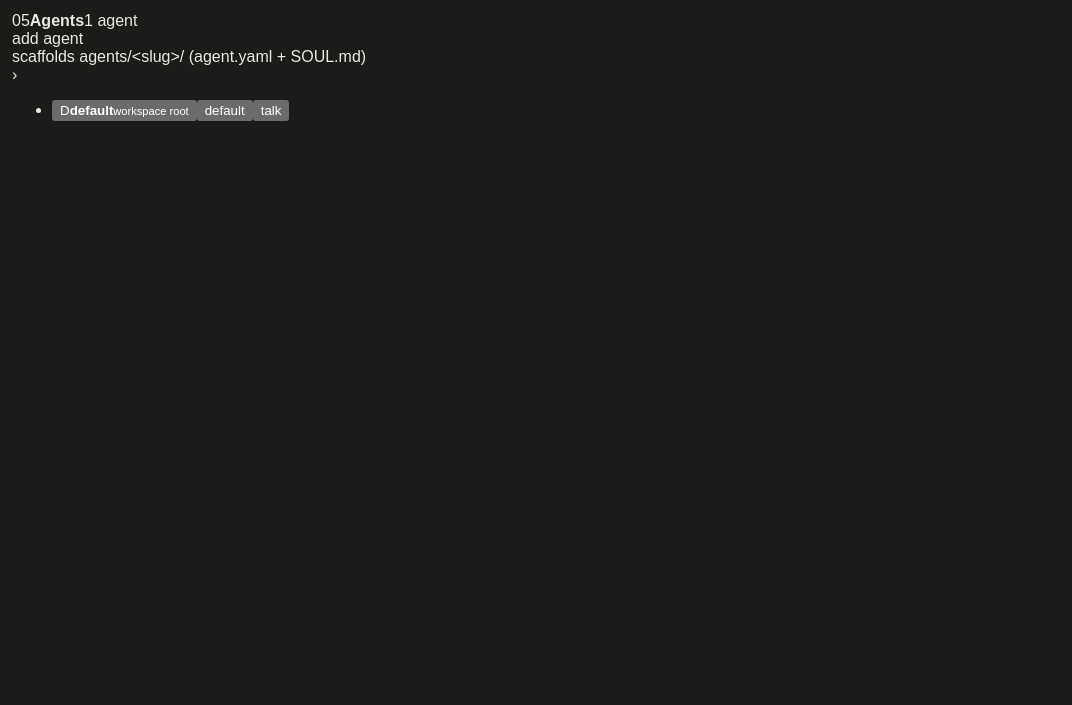
Test case: AgentsTab · the two verbs › a card TAP opens that agent's editor — the very row the list has always opened
expect the field labelled "Max output tokens" is not shown: met
Click the text "workspace root": (151,111) [113,105,189,117]
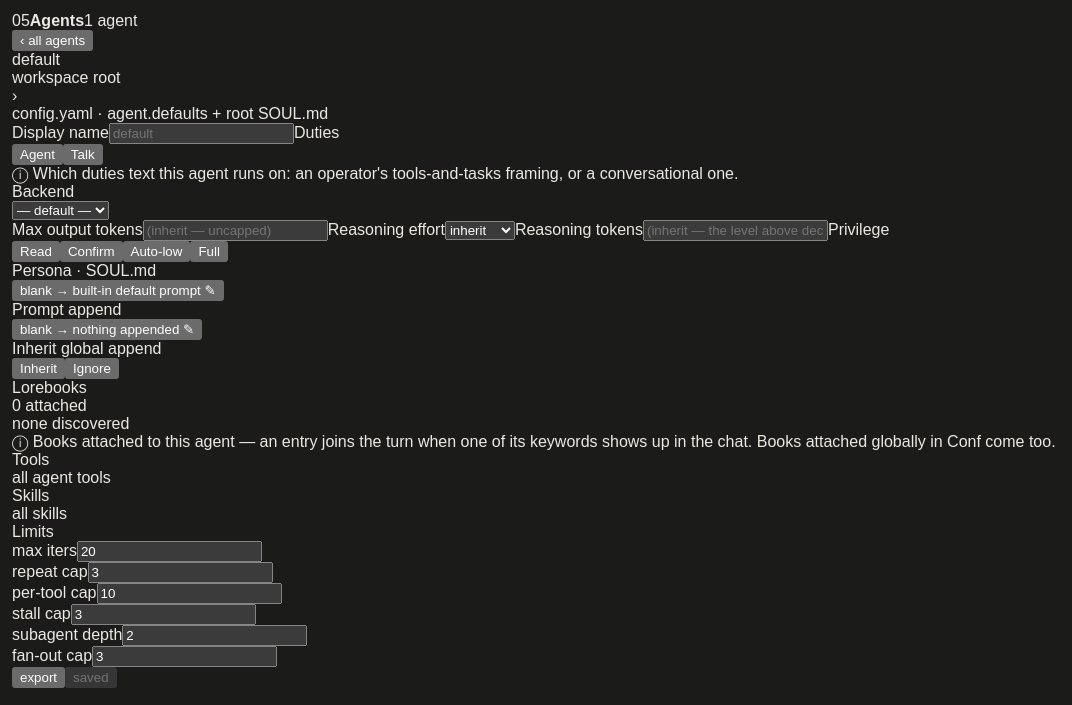
expect the field named "Max output tokens" is shown: met, box [143,220,328,241]
Click the button "‹ all agents": (53,40) [12,30,93,51]
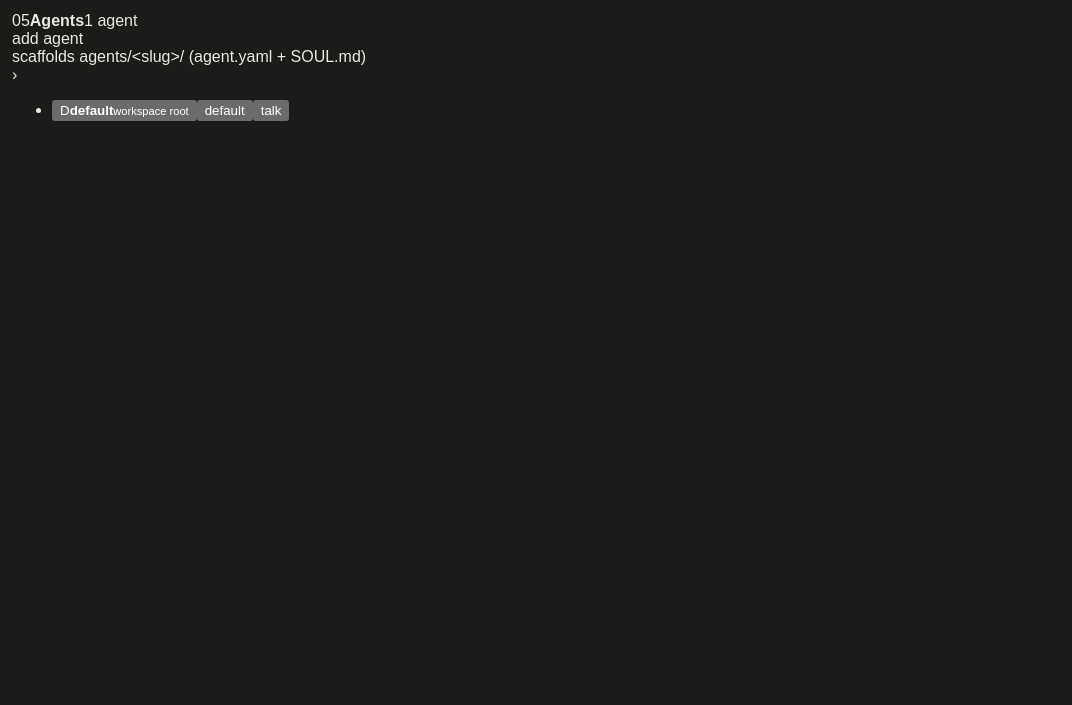
expect the label labelled "Max output tokens" is gone: met
